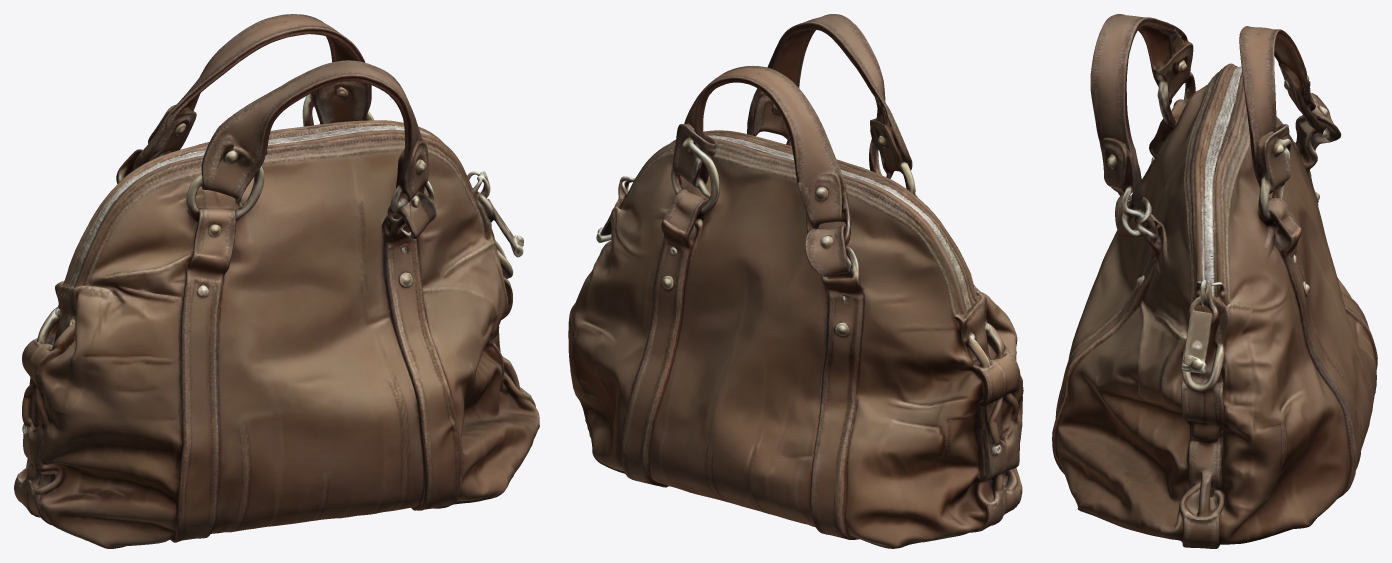
Rendered from bag_armani.glb.
3 views of the same model, side by side, from view 1: azimuth 30°, elevation 25°; view 2: azimuth 150°, elevation 25°; view 3: azimuth 270°, elevation 25° (orthographic). The views are drawn at different scales.
Parts seen in each view (by area): view 1: geometry_0; view 2: geometry_0; view 3: geometry_0.
Boxes of the visible parts, left/top/right/bottom form: geometry_0: left=14, top=14, right=539, bottom=548; geometry_0: left=568, top=14, right=1023, bottom=548; geometry_0: left=1052, top=14, right=1377, bottom=548.
Size of the model in its own units: 0.9994 by 0.9112 by 0.6097.
Materials: 1 (1 with a texture image).
